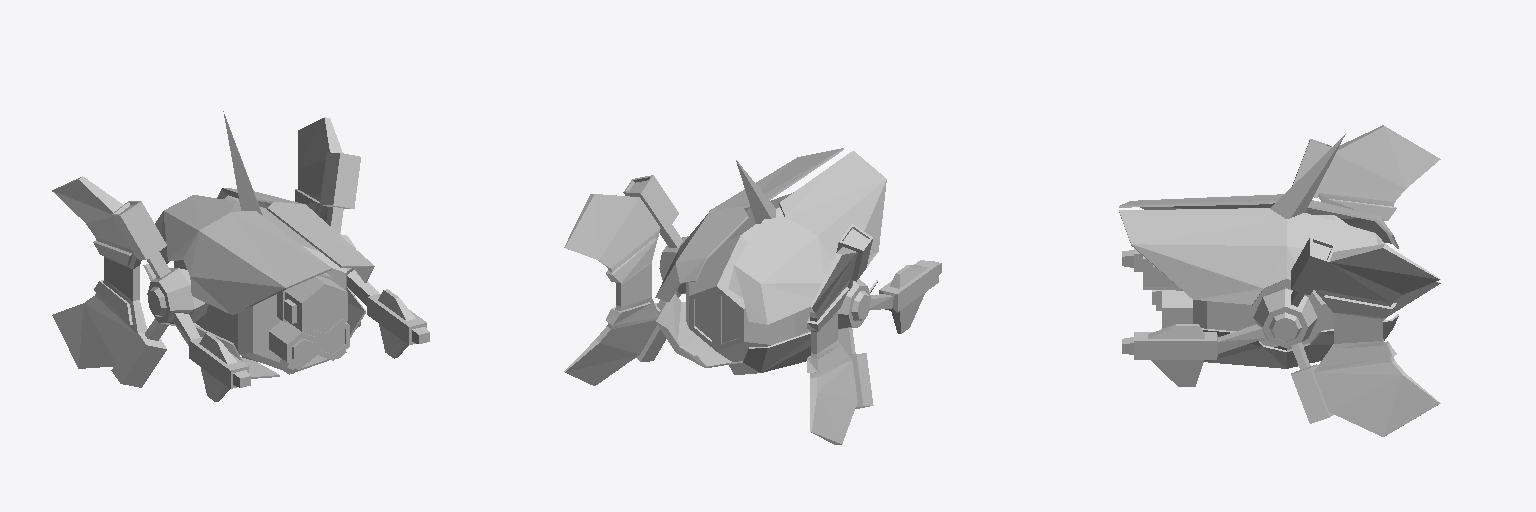
File: Drone_01.obj
The picture shows the model from 3 angles: view 1: azimuth 30°, elevation 25°; view 2: azimuth 150°, elevation 25°; view 3: azimuth 270°, elevation 25°; orthographic projection.
Visible parts, largest first — view 1: Drone; view 2: Drone; view 3: Drone.
Part boxes in pixels (x1,y1,x2,y2): Drone: (52,111,429,401); Drone: (564,148,941,444); Drone: (1119,125,1440,436).
Bounding box in the file's own units: 3.58 × 3.3 × 3.96.